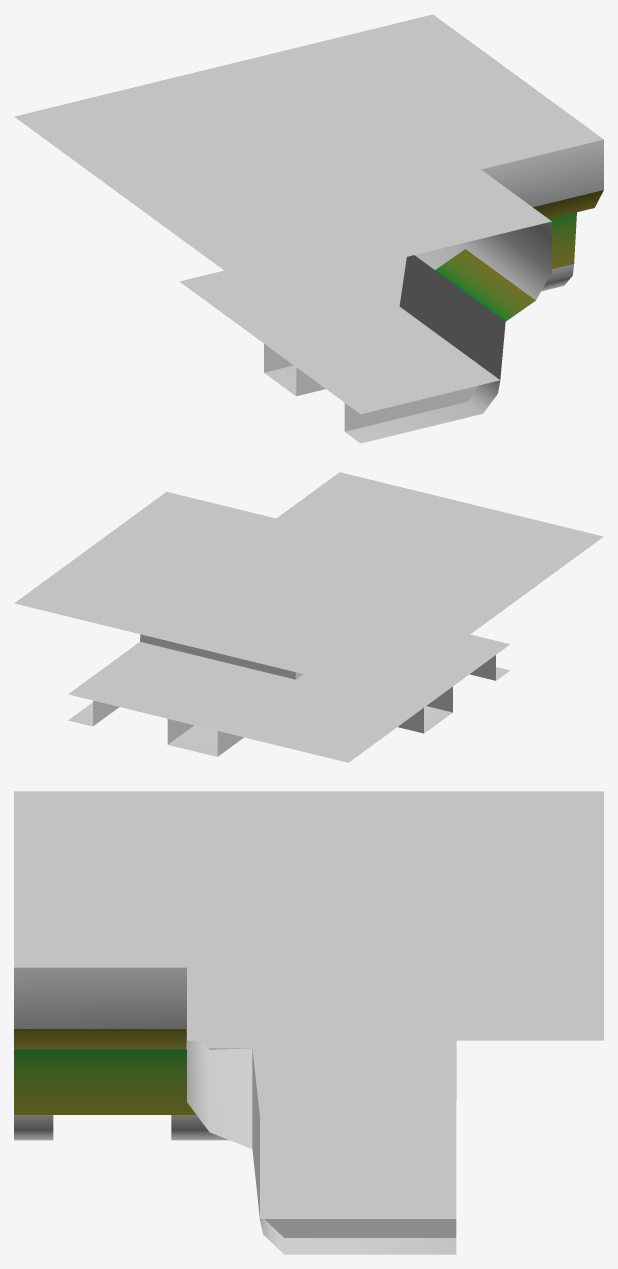
The model's file is SM_CorniceACornerInner1.5m.fbx.
The picture shows the model from 3 angles, top to bottom: view 1: azimuth 30°, elevation 25°; view 2: azimuth 150°, elevation 25°; view 3: azimuth 270°, elevation 25°; orthographic projection. The views are drawn at different scales.
Parts seen in each view (by area): view 1: SM_CorniceACornerInner1.5m; view 2: SM_CorniceACornerInner1.5m; view 3: SM_CorniceACornerInner1.5m.
Boxes of the visible parts, box(x1,y1,x2,y2) form: SM_CorniceACornerInner1.5m: box(14, 14, 603, 443); SM_CorniceACornerInner1.5m: box(14, 472, 603, 762); SM_CorniceACornerInner1.5m: box(14, 791, 603, 1254).
Bounding box in the file's own units: 150 × 60 × 150.
